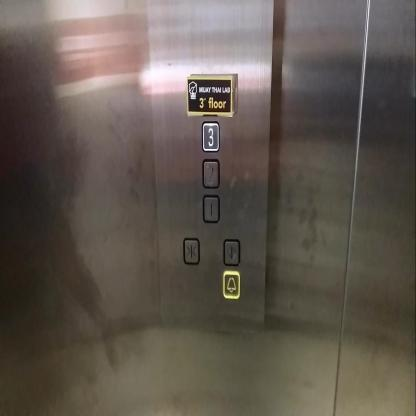1: (202, 193, 220, 224)
2: (202, 158, 220, 190)
3: (200, 118, 221, 152)
alarm: (223, 269, 240, 300)
close: (182, 236, 201, 266)
open: (223, 237, 240, 268)
